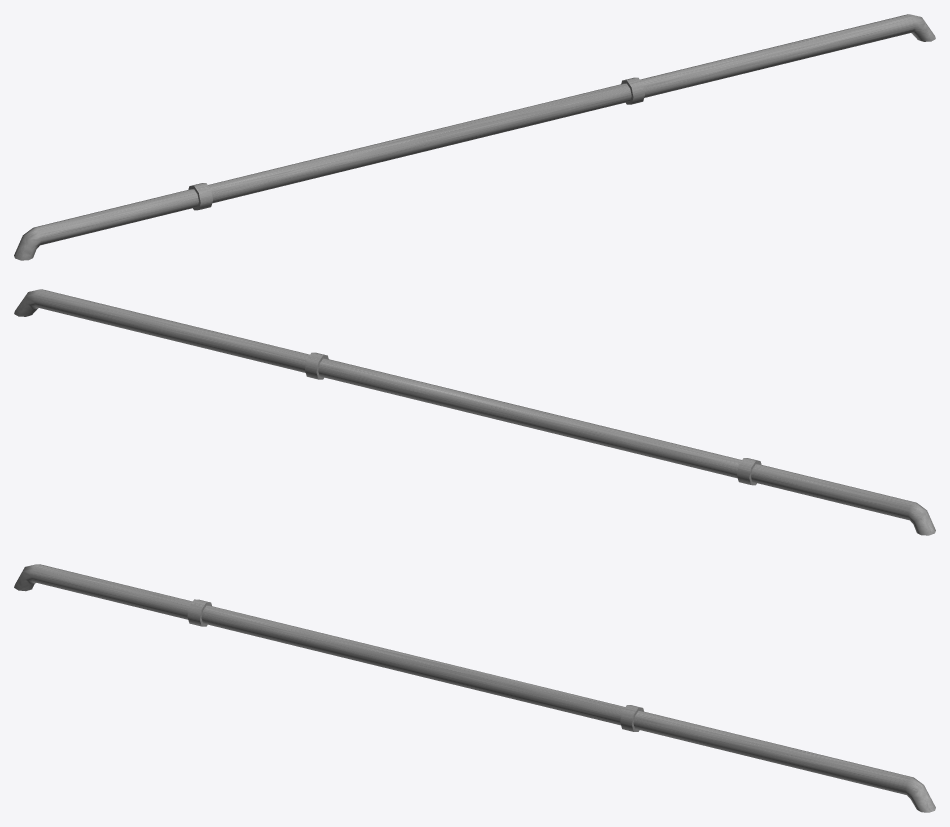
Rendered from cable.fbx.
The picture shows the model from 3 angles, top to bottom: view 1: azimuth 30°, elevation 25°; view 2: azimuth 150°, elevation 25°; view 3: azimuth 330°, elevation 25°; orthographic projection.
Visible parts, largest first — view 1: Cable; view 2: Cable; view 3: Cable.
Boxes of the visible parts, x1,y1,x2,y2 form: Cable: (14,14,935,260); Cable: (14,289,935,535); Cable: (14,564,935,812).
Size of the model in its own units: 211 by 6.7 by 5.3.
1 material, 1 textured.
